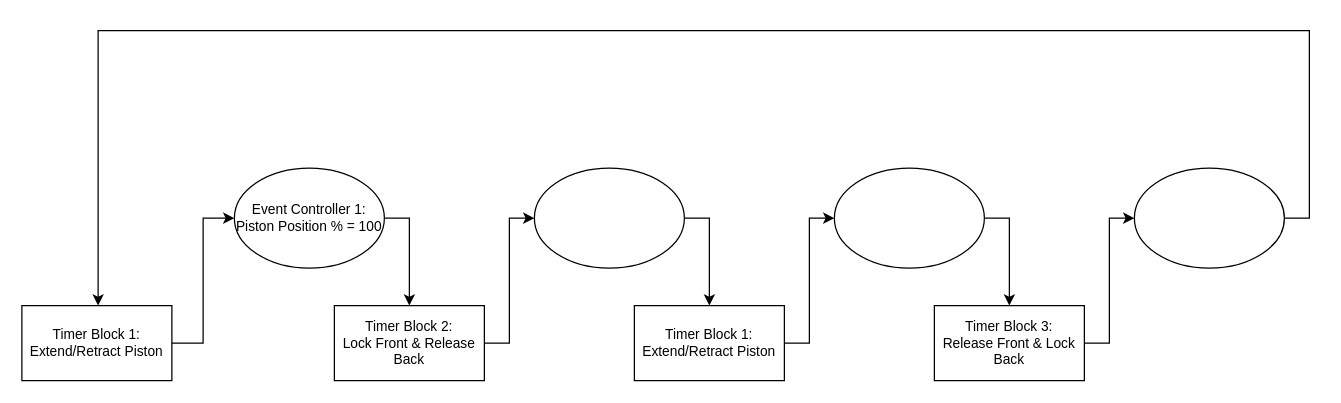
The diagram is 1341 pixels wide and 403 high, and some of its shapes have lost their labels. Each missing label, with the centre of its shape:
"Event Controller 2: Rotor/Hinge Attached/Detached > Back rotors" belongs at pixel 608 217.
"Event Controller 3: Piston Position % = 0" belongs at pixel 908 217.
"Event Controller 4: Rotor/Hinge Attached/Detached > Back Rotors" belongs at pixel 1208 217.
